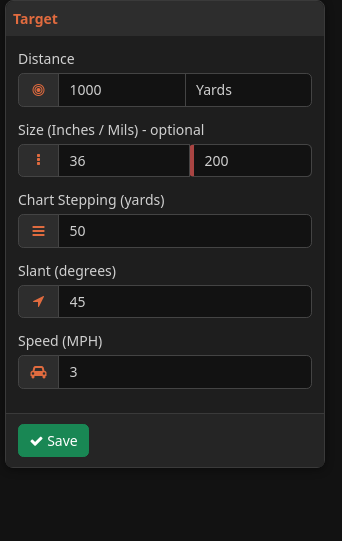
displays validation error for sizeMils when value exceeds max
The image size is (342, 541).
Clear the number field named "sizeMils" at (250, 160), box [189,144,312,177]
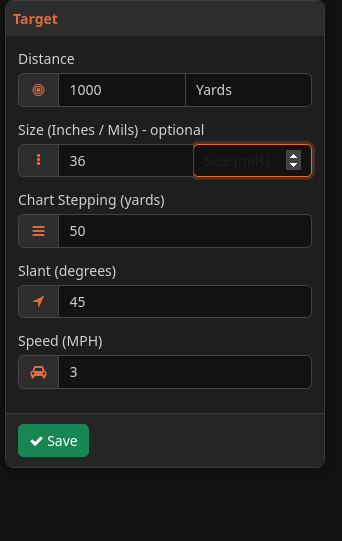
Type "200" into the number field named "sizeMils".
click(252, 160); type("200")  # box [193,144,312,177]
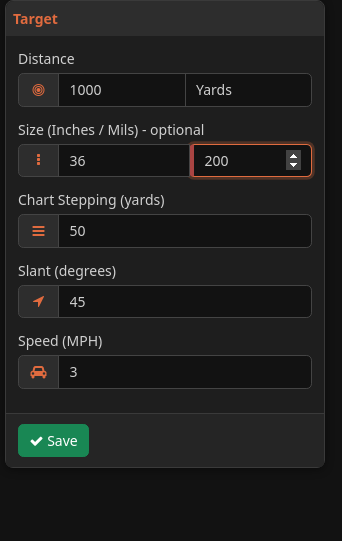
Press Tab
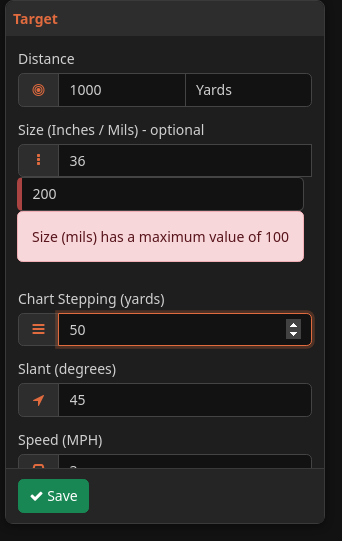
Now the text "Size (mils) has a maximum value of 100" is shown, box [17,210,304,262]
